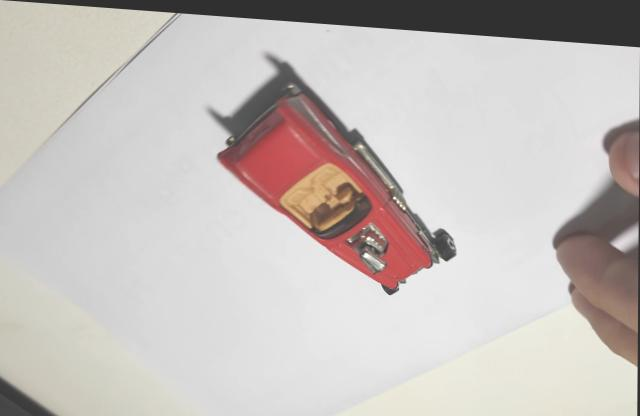03_V8: (208, 50, 457, 288)
